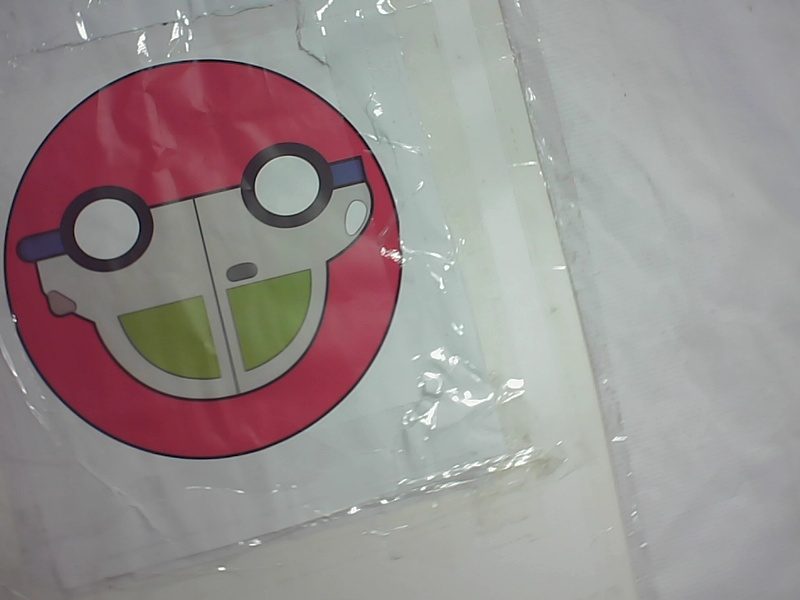areaC: (7, 45, 426, 487)
